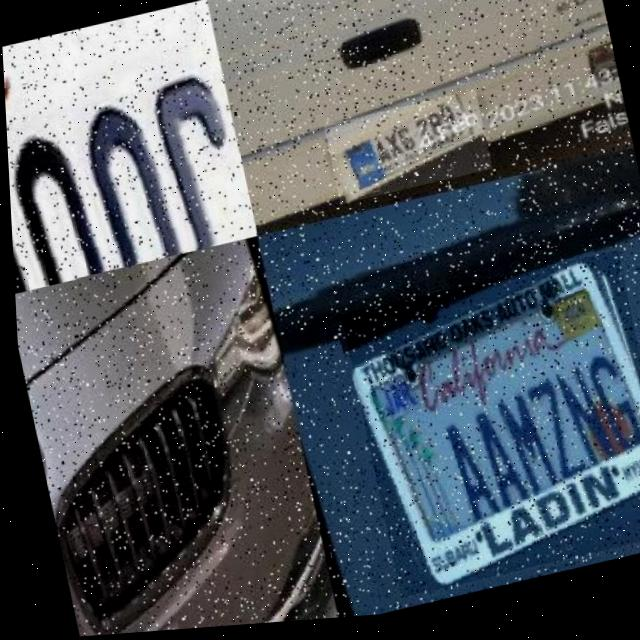LicensePlate: (336, 258, 640, 607), (4, 73, 255, 294), (321, 96, 491, 210)
